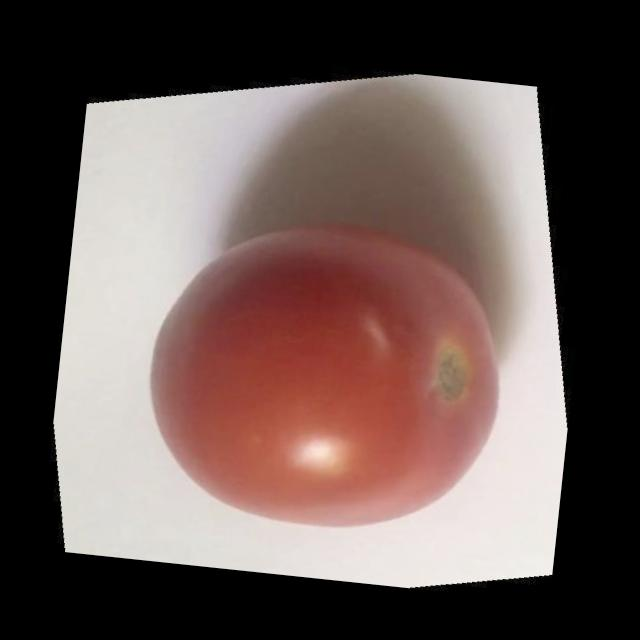tomato: (126, 202, 524, 554)
